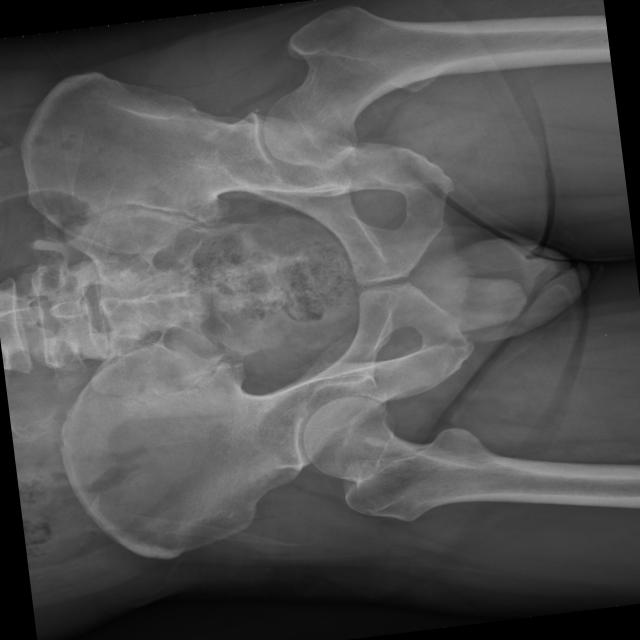normal-left: (262, 4, 534, 168)
normal-right: (303, 394, 582, 519)
